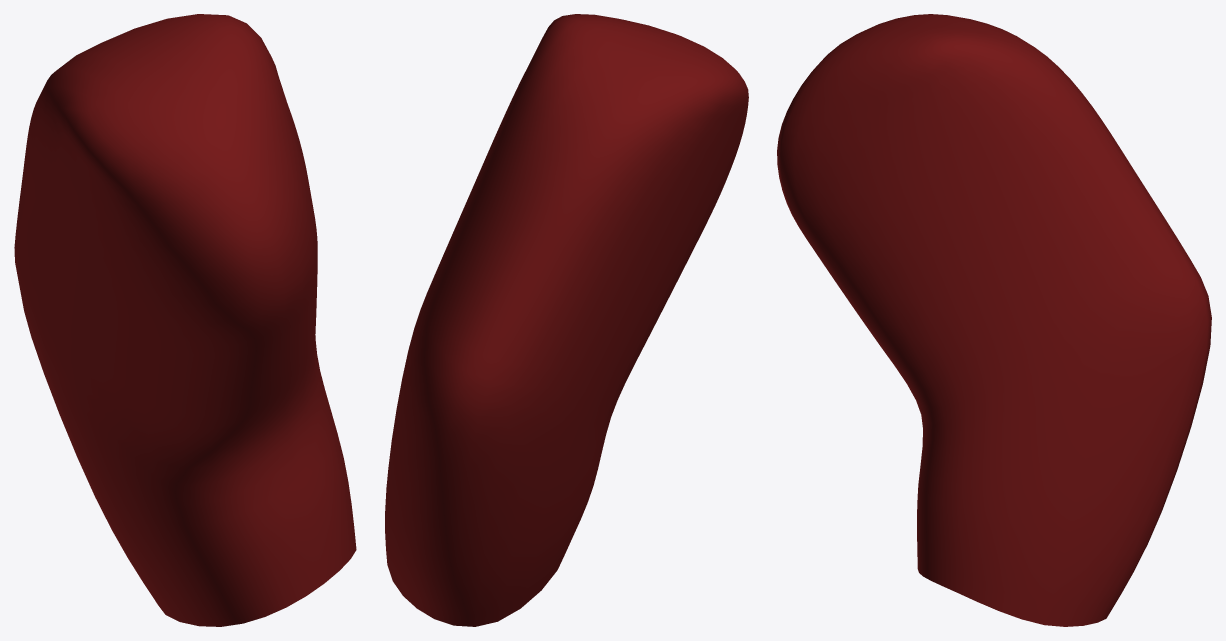
Rendered from RSBrazoIzq.obj.
3 renders of one model, left to right at view 1: azimuth 30°, elevation 25°; view 2: azimuth 150°, elevation 25°; view 3: azimuth 270°, elevation 25°, orthographic. The views are drawn at different scales.
Parts seen in each view (by area): view 1: BrazoIzq; view 2: BrazoIzq; view 3: BrazoIzq.
Part boxes in pixels (x1,y1,x2,y2): BrazoIzq: (14, 14, 356, 626); BrazoIzq: (385, 14, 748, 626); BrazoIzq: (777, 14, 1211, 626).
Size of the model in its own units: 8.82 by 16.8 by 11.95.
